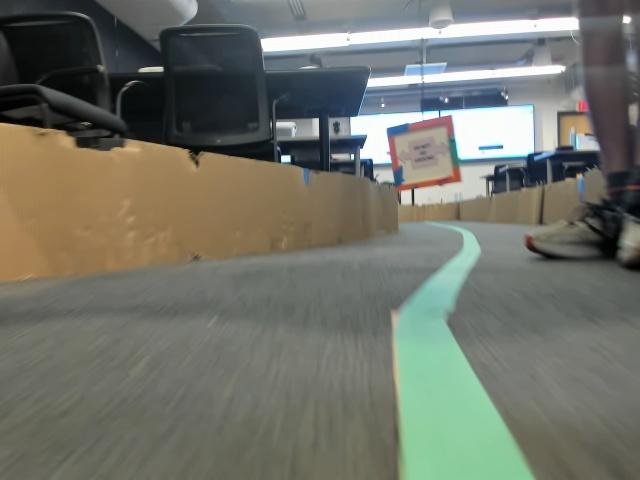Do Not Go Around: (395, 144, 447, 171)
